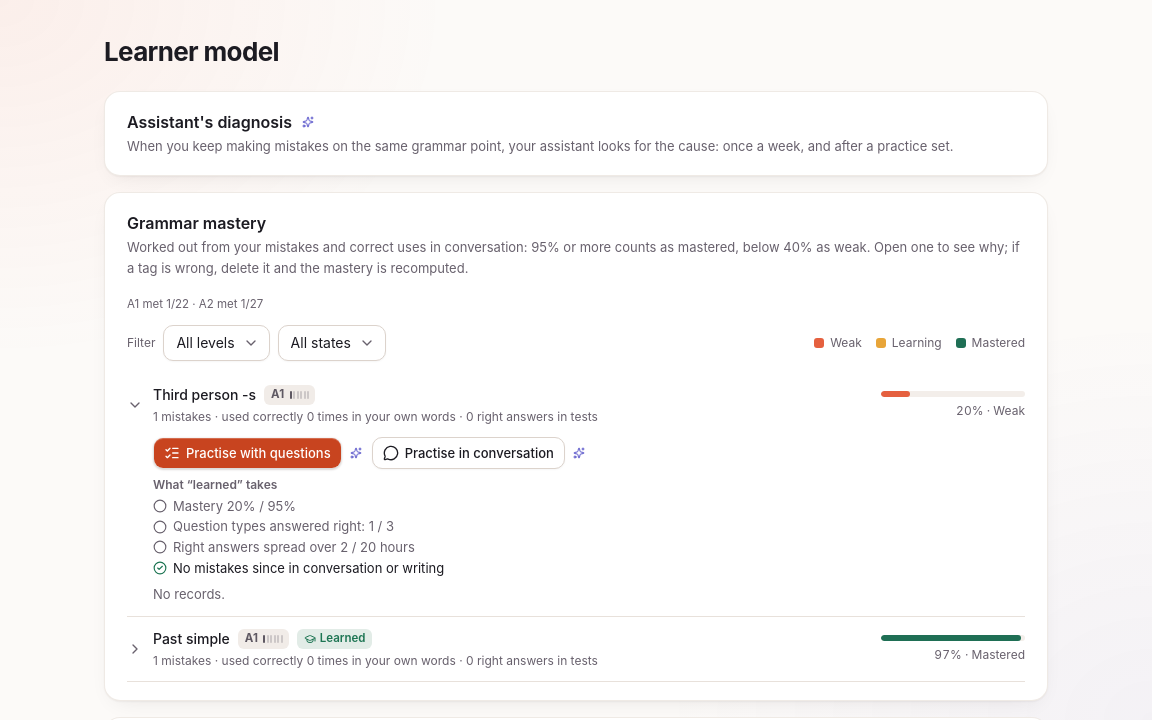
LearnerApp › shows how far a point is from learned, or when a learned one is due
Expected: the list items read "Mastery 20% / 95%", "Question types answered right: 1 / 3", "Right answers spread over 2 / 20 hours", "No mistakes since in conversation or writing", in this order, x1=153 y1=498 x2=296 y2=514; x1=153 y1=518 x2=394 y2=534; x1=153 y1=539 x2=415 y2=555; x1=153 y1=560 x2=444 y2=576
Expected: the text "Learned" is shown, x1=297 y1=629 x2=372 y2=649
Click the button that starts with "Past simple".
click(191, 638)  # box x1=127 y1=617 x2=1025 y2=681
(page scrolled)
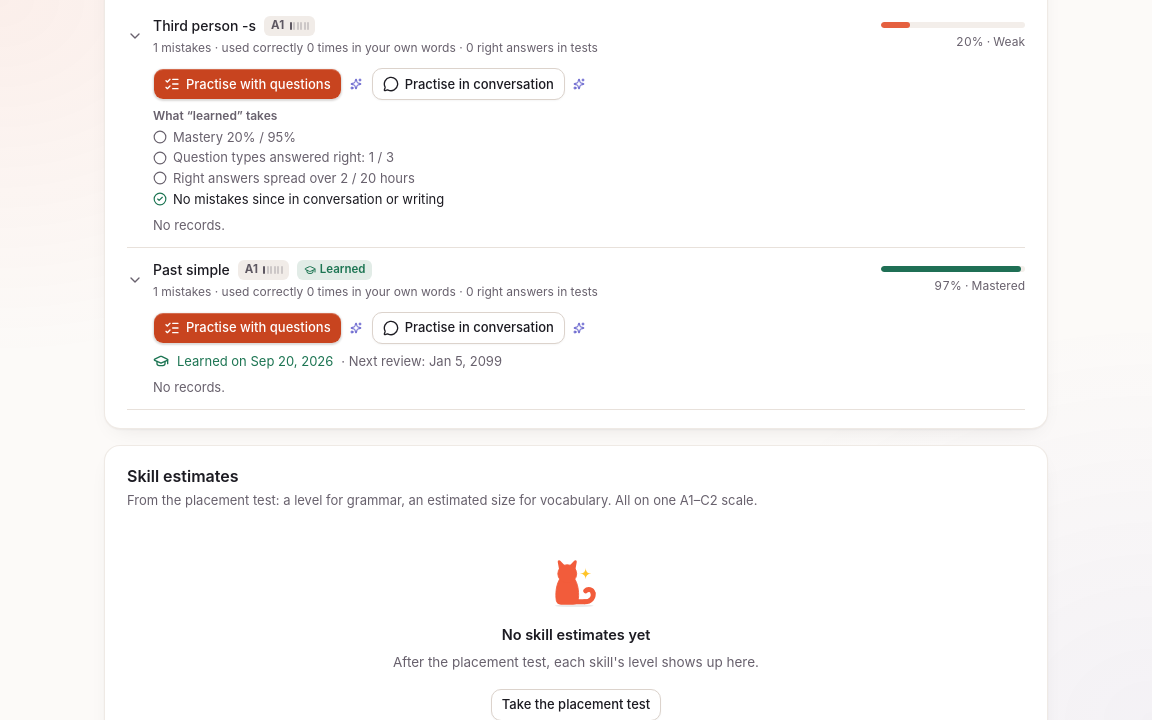
Expected: the element with test id "kc-learned" reads "Learned on Sep 20, 2026 · Next review: Jan 5, 2099", x1=153 y1=353 x2=502 y2=369
